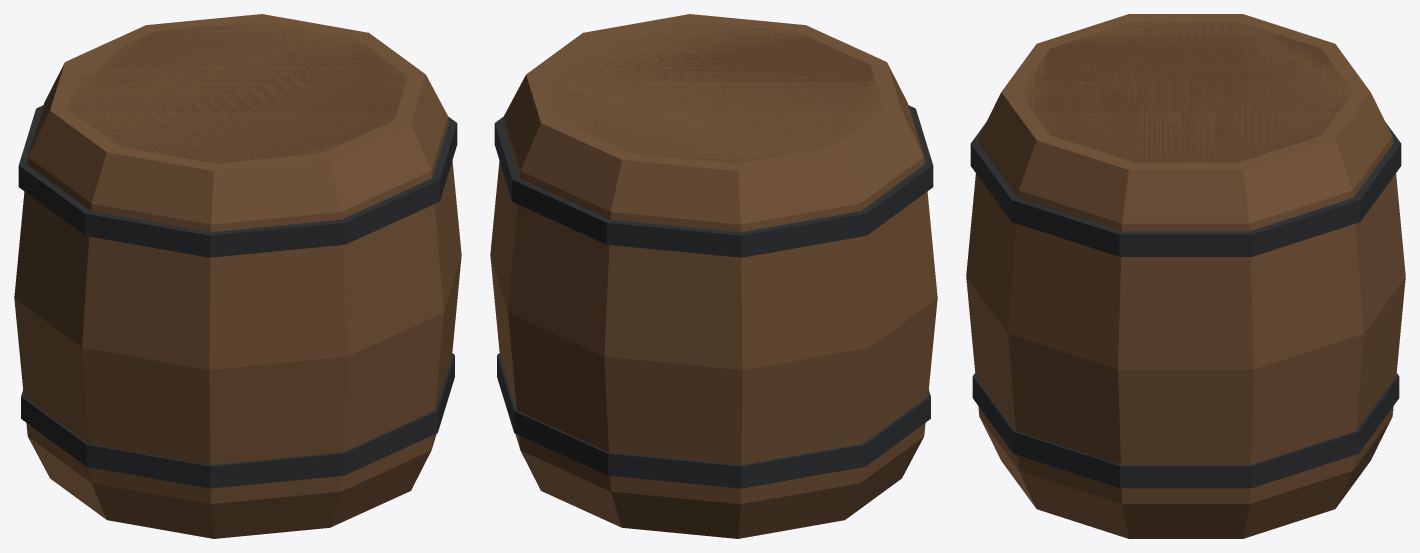
File: SM_Wood_Barrel_A.glb
The picture shows the model from 3 angles, left to right: view 1: azimuth 30°, elevation 25°; view 2: azimuth 150°, elevation 25°; view 3: azimuth 270°, elevation 25°; orthographic projection.
Parts seen in each view (by area): view 1: SM_Wood_Barrel_A; view 2: SM_Wood_Barrel_A; view 3: SM_Wood_Barrel_A.
Part boxes in pixels (left/top/right/bottom): SM_Wood_Barrel_A: left=14, top=14, right=461, bottom=538; SM_Wood_Barrel_A: left=490, top=14, right=937, bottom=538; SM_Wood_Barrel_A: left=966, top=14, right=1405, bottom=538.
Bounding box in the file's own units: 0.378 × 0.35 × 0.378.
1 material, 1 textured.
